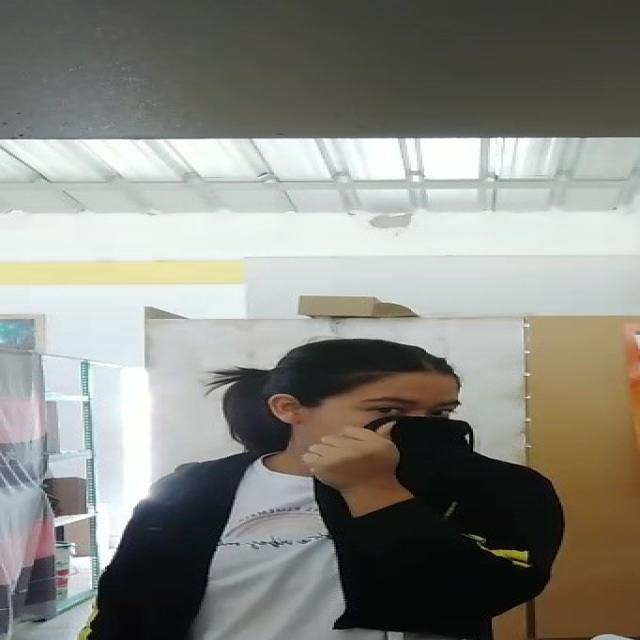8_ropa_rostro: (300, 408, 479, 530)
